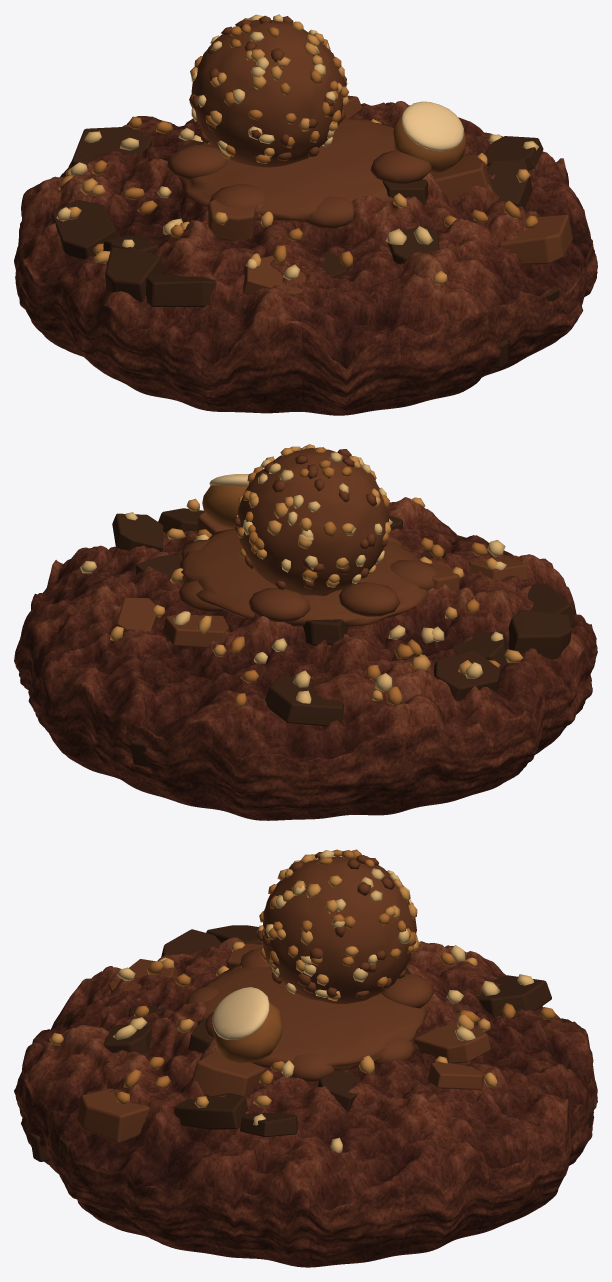
The model's file is tem_ferrero.glb.
3 views of the same model, one above another, from view 1: azimuth 30°, elevation 25°; view 2: azimuth 150°, elevation 25°; view 3: azimuth 270°, elevation 25° (orthographic). The views are drawn at different scales.
Visible parts, largest first — view 1: Baked porous crumb, Milk chocolate, Dark chocolate, Hazelnut crumb 0, Hazelnut interior, Hazelnut skin; view 2: Baked porous crumb, Milk chocolate, Dark chocolate, Hazelnut crumb 0, Hazelnut skin; view 3: Baked porous crumb, Milk chocolate, Hazelnut crumb 0, Dark chocolate, Hazelnut interior, Hazelnut skin.
Part boxes in pixels (box(x1,y1,x2,y2)): Baked porous crumb: box(14, 101, 597, 415); Milk chocolate: box(167, 15, 572, 295); Dark chocolate: box(51, 126, 559, 382); Hazelnut crumb 0: box(56, 14, 538, 284); Hazelnut interior: box(401, 101, 463, 151); Hazelnut skin: box(393, 115, 466, 172); Baked porous crumb: box(14, 497, 597, 820); Milk chocolate: box(116, 448, 527, 647); Dark chocolate: box(112, 508, 575, 766); Hazelnut crumb 0: box(80, 444, 523, 706); Hazelnut skin: box(202, 485, 247, 529); Baked porous crumb: box(14, 937, 597, 1267); Milk chocolate: box(77, 852, 490, 1143); Hazelnut crumb 0: box(49, 849, 556, 1152); Dark chocolate: box(30, 925, 593, 1161); Hazelnut interior: box(212, 987, 269, 1039); Hazelnut skin: box(213, 1001, 282, 1063).
Size of the model in its own units: 0.093 by 0.0493 by 0.0903.
Materials: 7 (7 with a texture image).
